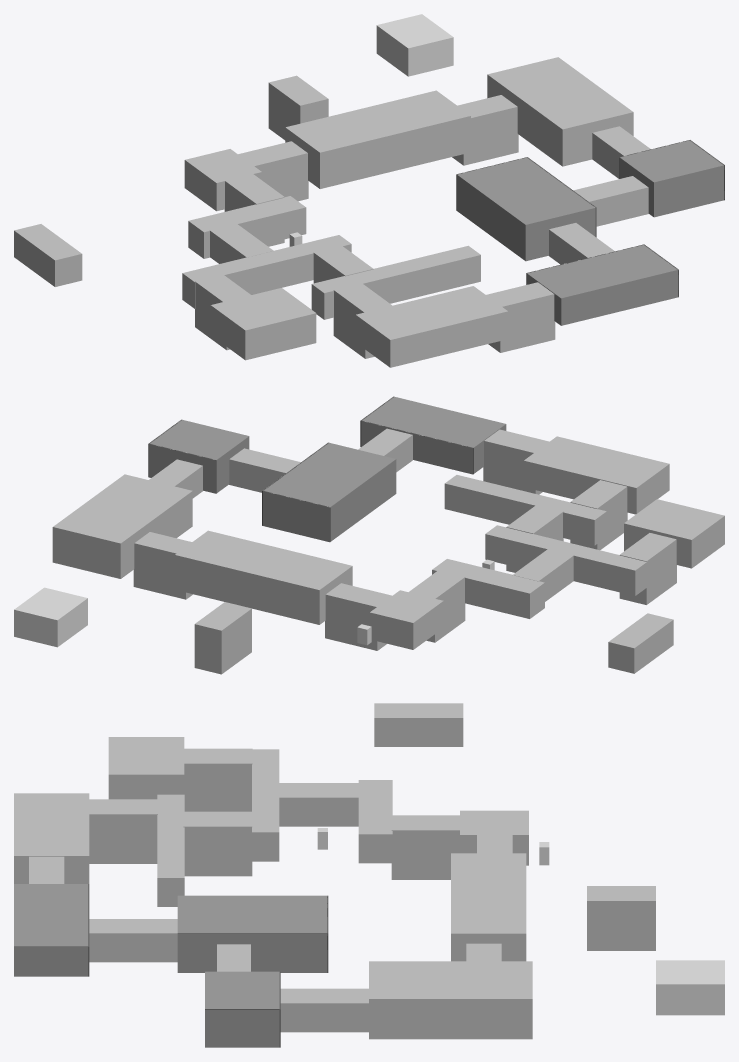
Rendered from FakeLevel_1.fbx.
The picture shows the model from 3 angles, top to bottom: view 1: azimuth 30°, elevation 25°; view 2: azimuth 150°, elevation 25°; view 3: azimuth 270°, elevation 25°; orthographic projection. The views are drawn at different scales.
Visible parts, largest first — view 1: Плоскость.023, Плоскость.019, Плоскость.014, Плоскость.010, Плоскость.005, Плоскость.022, Плоскость.017, Плоскость.004, Плоскость.002, Куб.002, Плоскость.026, Куб.014 (+13 smaller); view 2: Плоскость.023, Плоскость.014, Плоскость.019, Плоскость.010, Плоскость.005, Плоскость.002, Плоскость.004, Плоскость.017, Плоскость.022, Плоскость.026, Куб.006, Куб.002 (+13 smaller); view 3: Плоскость.019, Плоскость.014, Плоскость.023, Плоскость.005, Плоскость.010, Плоскость.017, Плоскость.022, Куб.010, Куб.006, Куб.012, Куб.008, Куб.003 (+13 smaller).
Boxes of the visible parts, x1,y1,x2,y2 form: Плоскость.023: (285,90,470,188); Плоскость.019: (487,57,633,166); Плоскость.014: (456,157,596,261); Плоскость.010: (355,286,508,367); Плоскость.005: (526,244,678,325); Плоскость.022: (210,288,316,360); Плоскость.017: (619,140,724,217); Плоскость.004: (311,245,480,319); Плоскость.002: (182,235,351,308); Куб.002: (376,14,453,76); Плоскость.026: (188,196,306,258); Куб.014: (486,282,555,352); Плоскость.023: (175,530,352,624); Плоскость.014: (262,442,396,542); Плоскость.019: (52,474,192,578); Плоскость.010: (523,436,669,514); Плоскость.005: (360,396,506,474); Плоскость.002: (485,525,647,595); Плоскость.004: (444,475,606,545); Плоскость.017: (148,419,249,493); Плоскость.022: (624,499,724,568); Плоскость.026: (432,559,544,618); Куб.006: (194,602,251,674); Куб.002: (14,587,87,647); Плоскость.019: (369,961,532,1039); Плоскость.014: (177,895,328,972); Плоскость.023: (451,853,526,961); Плоскость.005: (14,884,89,976); Плоскость.010: (14,793,89,883); Плоскость.017: (205,971,280,1047); Плоскость.022: (108,737,184,799); Куб.010: (183,811,252,876); Куб.006: (587,886,655,950); Куб.012: (89,799,157,863); Куб.008: (184,748,252,811); Куб.003: (391,815,459,879).
Size of the model in its own units: 7594 by 685 by 7259.
